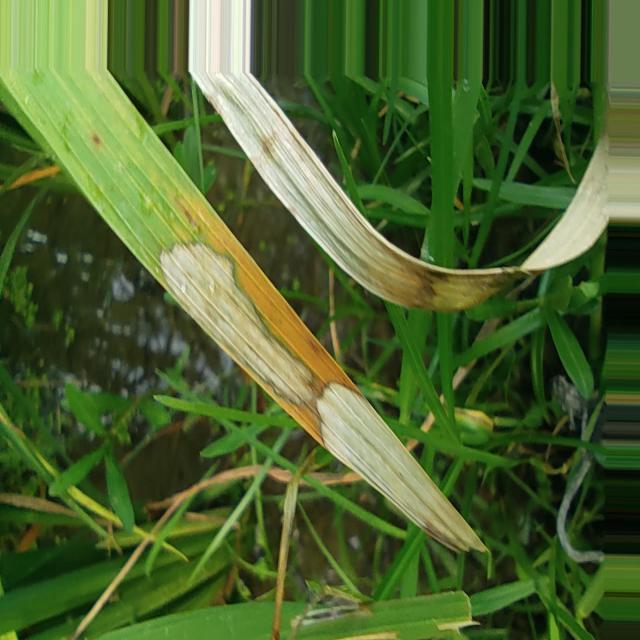Brown_Spot: (91, 133, 100, 145)
Rice False Smut: (194, 73, 609, 312), (318, 383, 485, 552), (160, 243, 314, 402)
